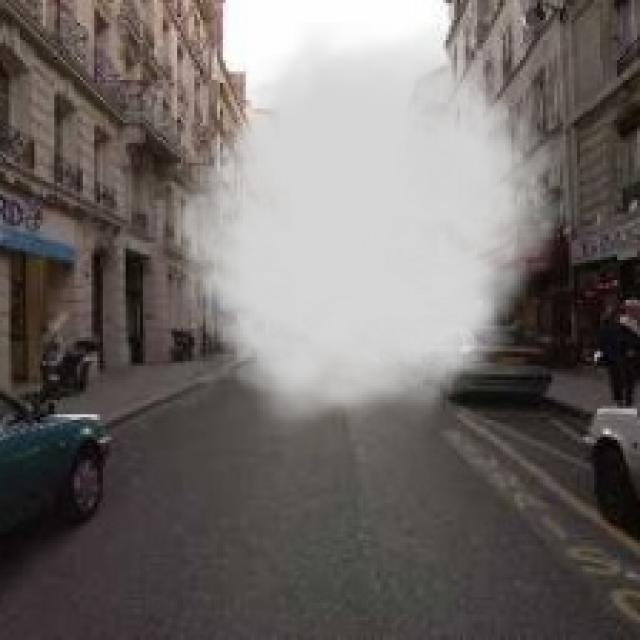smoke: (154, 23, 577, 440)
